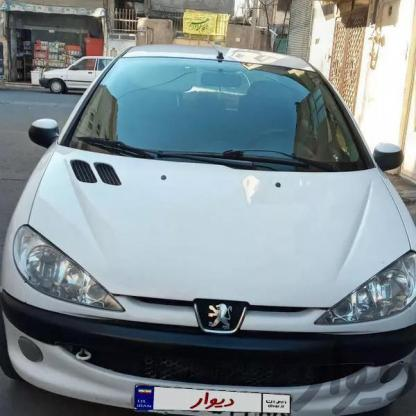Car: (0, 25, 416, 416), (26, 51, 144, 93)
